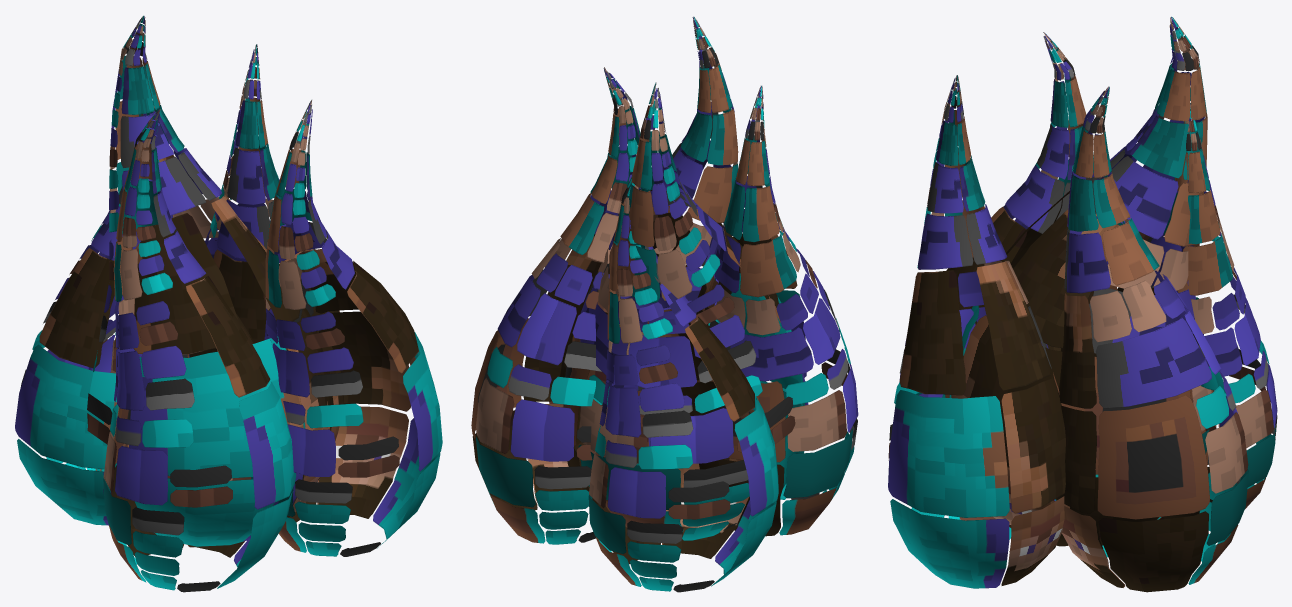
The picture shows the model from 3 angles, left to right: view 1: azimuth 30°, elevation 25°; view 2: azimuth 150°, elevation 25°; view 3: azimuth 270°, elevation 25°; orthographic projection. The views are drawn at different scales.
Parts seen in each view (by area): view 1: flame_NurbsPath.015; view 2: flame_NurbsPath.015; view 3: flame_NurbsPath.015.
Boxes of the visible parts, bbox=[...] form: flame_NurbsPath.015: bbox=[15, 15, 442, 592]; flame_NurbsPath.015: bbox=[471, 16, 858, 592]; flame_NurbsPath.015: bbox=[888, 16, 1277, 592].
Size of the model in its own units: 0.7556 by 1.16 by 0.7989.
